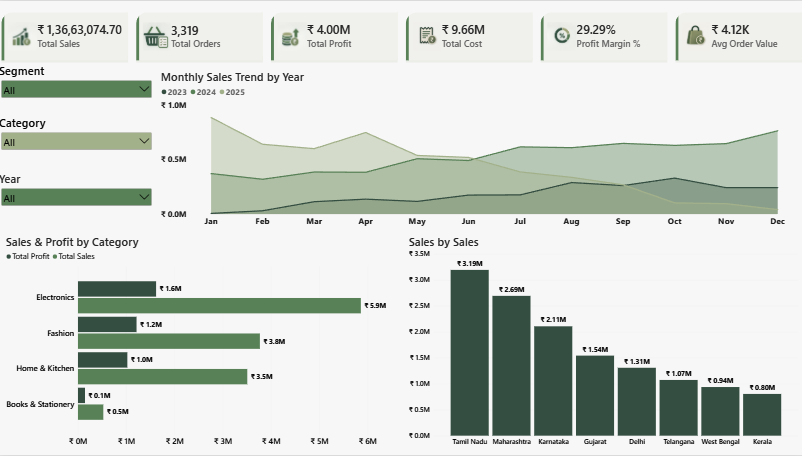

The dashboard page shown, as its layout file describes it:
{"tool":"powerbi","page":{"name":"Sales Overview","canvas":[1920,1080],"ordinal":0},"visuals":[{"type":"cardVisual","fields":{"Data":["_Measures.Total Sales","_Measures.Total Orders","_Measures.Total Profit","_Measures.Total Cost","_Measures.Profit Margin %","_Measures.Avg Order Value"]},"box":[0,21.4,1919,126.2],"z":0},{"type":"lineChart","title":"Monthly Sales Trend by Year","fields":{"Category":["Date.Month"],"Series":["Date.Year"],"Y":["_Measures.Total Sales"]},"box":[369,147.6,1550,411.9],"z":1000},{"type":"clusteredBarChart","title":"Sales & Profit by Category","fields":{"Category":["products.Category"],"Y":["_Measures.Total Profit","_Measures.Total Sales"]},"box":[0,540.5,959.5,540.5],"z":2000},{"type":"slicer","title":"Year","fields":{"Values":["Date.Year"]},"box":[0,404.8,369,92.9],"z":3000},{"type":"slicer","title":"Category","fields":{"Values":["products.Category"]},"box":[0,271.4,369,111.9],"z":4000},{"type":"slicer","title":"Segment","fields":{"Values":["customers.Segment"]},"box":[0,147.6,369,100],"z":5000},{"type":"clusteredColumnChart","title":"Sales by Sales","fields":{"Category":["customers.State"],"Y":["_Measures.Total Sales"]},"box":[959.5,540.5,959.5,540.5],"z":6000}]}

Visuals, with their boxes in screenshot pixels (x1, y1, x2, y2), scaled from the page's 1920x1080 canvas onto the 802x456 screenshot:
cardVisual - _Measures.Total Sales x _Measures.Total Orders: bbox(0, 9, 801, 62)
"Monthly Sales Trend by Year" lineChart: bbox(154, 62, 801, 236)
"Sales & Profit by Category" clusteredBarChart: bbox(0, 228, 401, 455)
"Year" slicer: bbox(0, 171, 154, 210)
"Category" slicer: bbox(0, 115, 154, 162)
"Segment" slicer: bbox(0, 62, 154, 105)
"Sales by Sales" clusteredColumnChart: bbox(401, 228, 801, 455)
